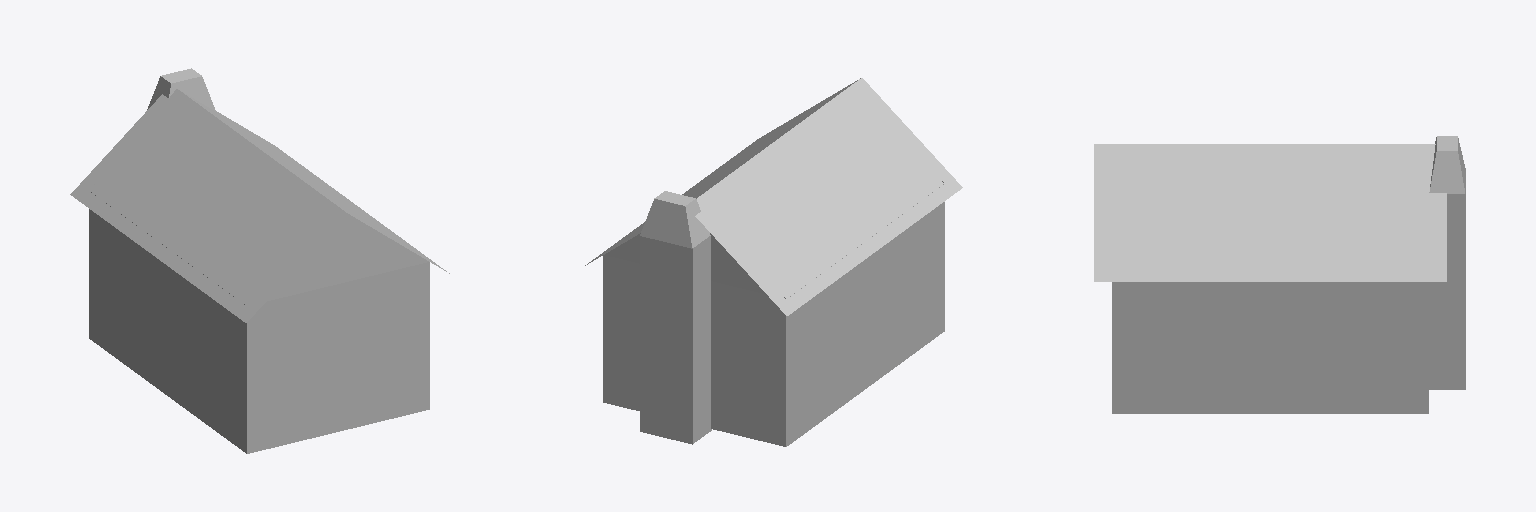
File: ForesterLodge.obj
3 views of the same model, side by side, from view 1: azimuth 30°, elevation 25°; view 2: azimuth 150°, elevation 25°; view 3: azimuth 270°, elevation 25° (orthographic).
Parts seen in each view (by area): view 1: Village; view 2: Village; view 3: Village.
Part boxes in pixels (x1,y1,x2,y2): Village: (70, 68, 449, 453); Village: (585, 78, 962, 446); Village: (1094, 136, 1465, 413).
Bounding box in the file's own units: 7.43 × 8.08 × 11.66.